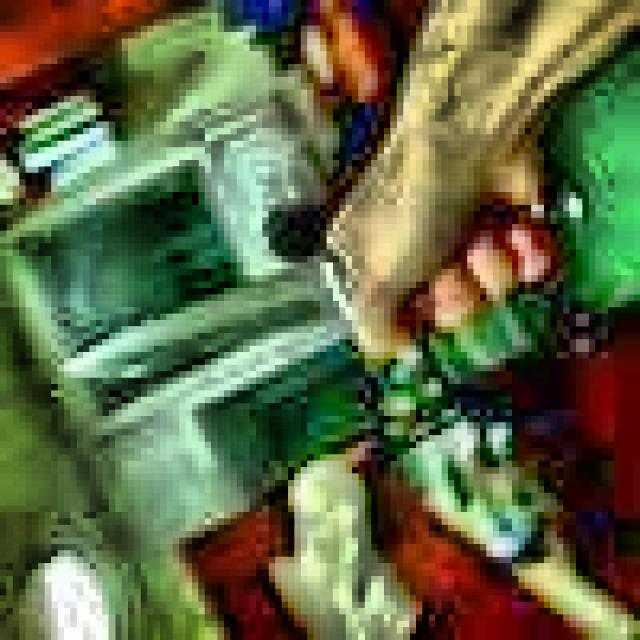knife: (52, 185, 584, 390)
